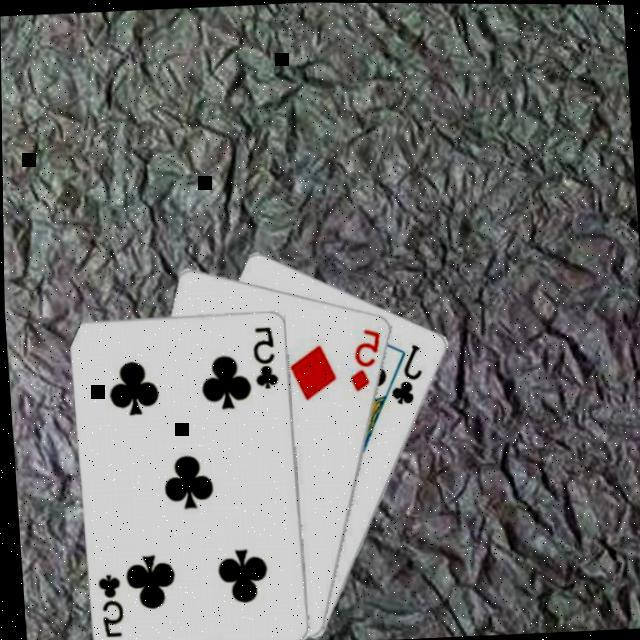5C: (90, 569, 125, 639), (246, 322, 278, 391)
5D: (341, 322, 385, 392)
JC: (382, 338, 424, 406)
